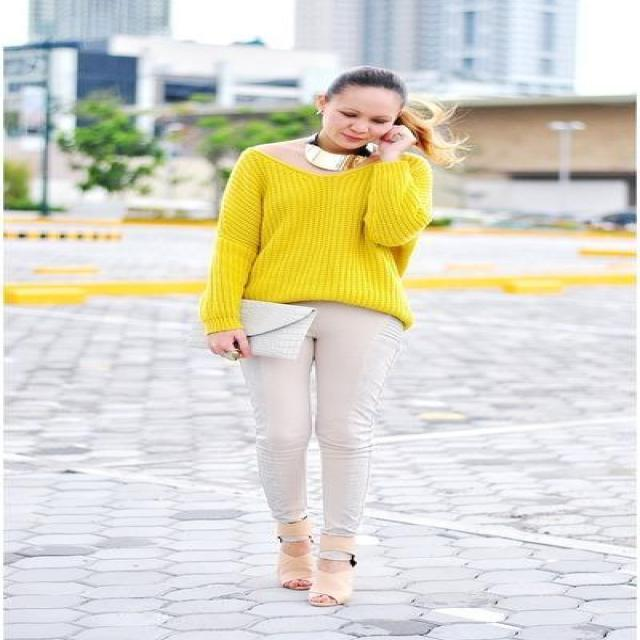jacket: (200, 149, 440, 332)
pants: (229, 300, 416, 519)
shoe: (274, 514, 355, 600)
